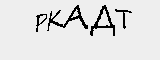А: (67, 4, 88, 29)
Д: (90, 3, 118, 35)
К: (46, 5, 63, 34)
Р: (33, 12, 49, 33)
Т: (115, 7, 132, 29)
